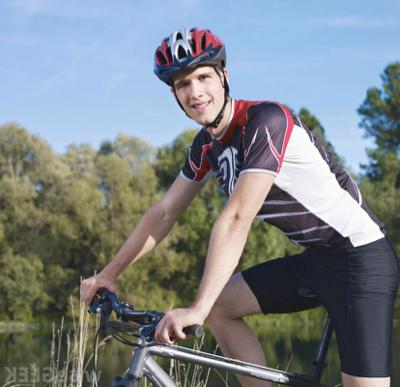With Helmet: (148, 24, 229, 131)
